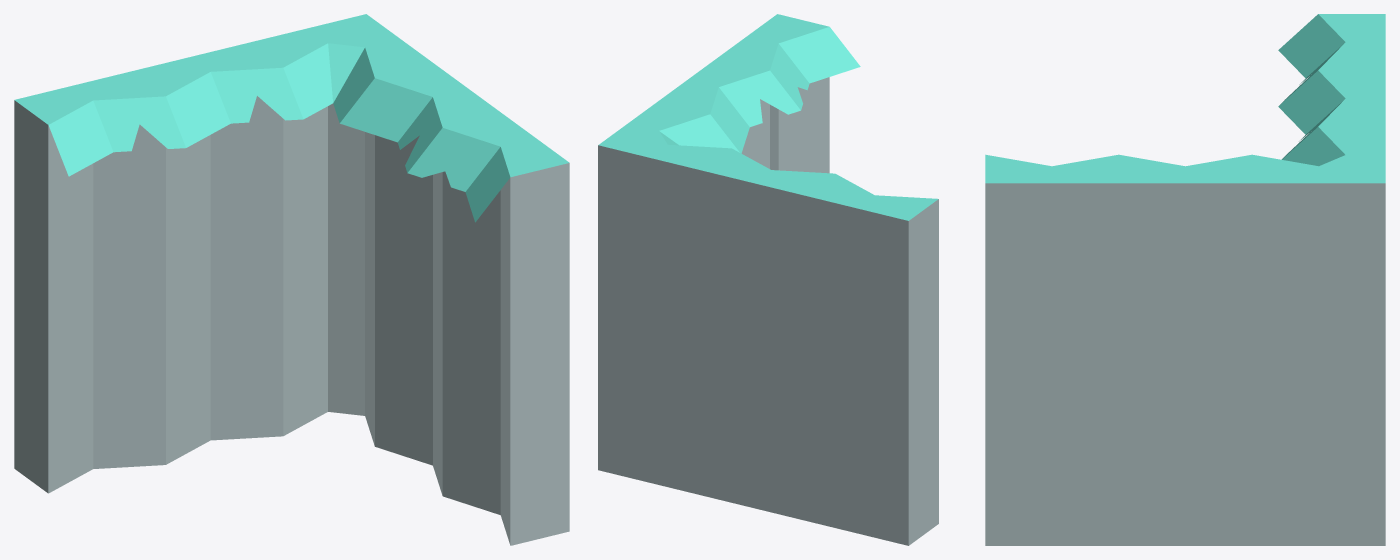
File: cliff_cornerInnerTop_stone.gltf
3 views of the same model, side by side, from view 1: azimuth 30°, elevation 25°; view 2: azimuth 150°, elevation 25°; view 3: azimuth 270°, elevation 25° (orthographic). The views are drawn at different scales.
Visible parts, largest first — view 1: cliff_cornerInnerTop_stone; view 2: cliff_cornerInnerTop_stone; view 3: cliff_cornerInnerTop_stone.
Boxes of the visible parts, x1,y1,x2,y2 form: cliff_cornerInnerTop_stone: (14, 14, 569, 545); cliff_cornerInnerTop_stone: (598, 14, 938, 545); cliff_cornerInnerTop_stone: (985, 14, 1385, 545).
Size of the model in its own units: 1 by 1 by 1.
